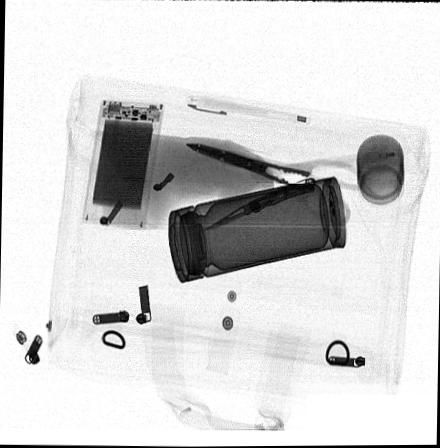Knife: (201, 180, 313, 231)
Powerbank: (80, 99, 162, 227)
Scissors: (181, 143, 363, 225)
